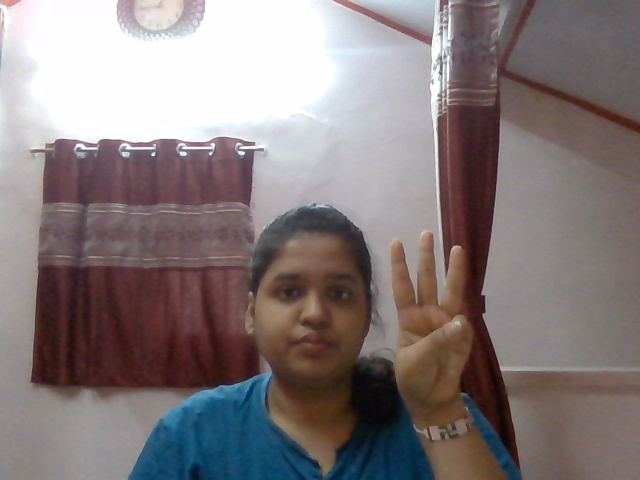w: (375, 217, 485, 416)
